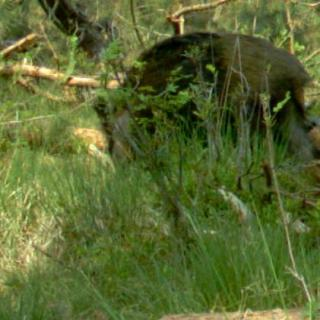Pig: (76, 12, 311, 180)
